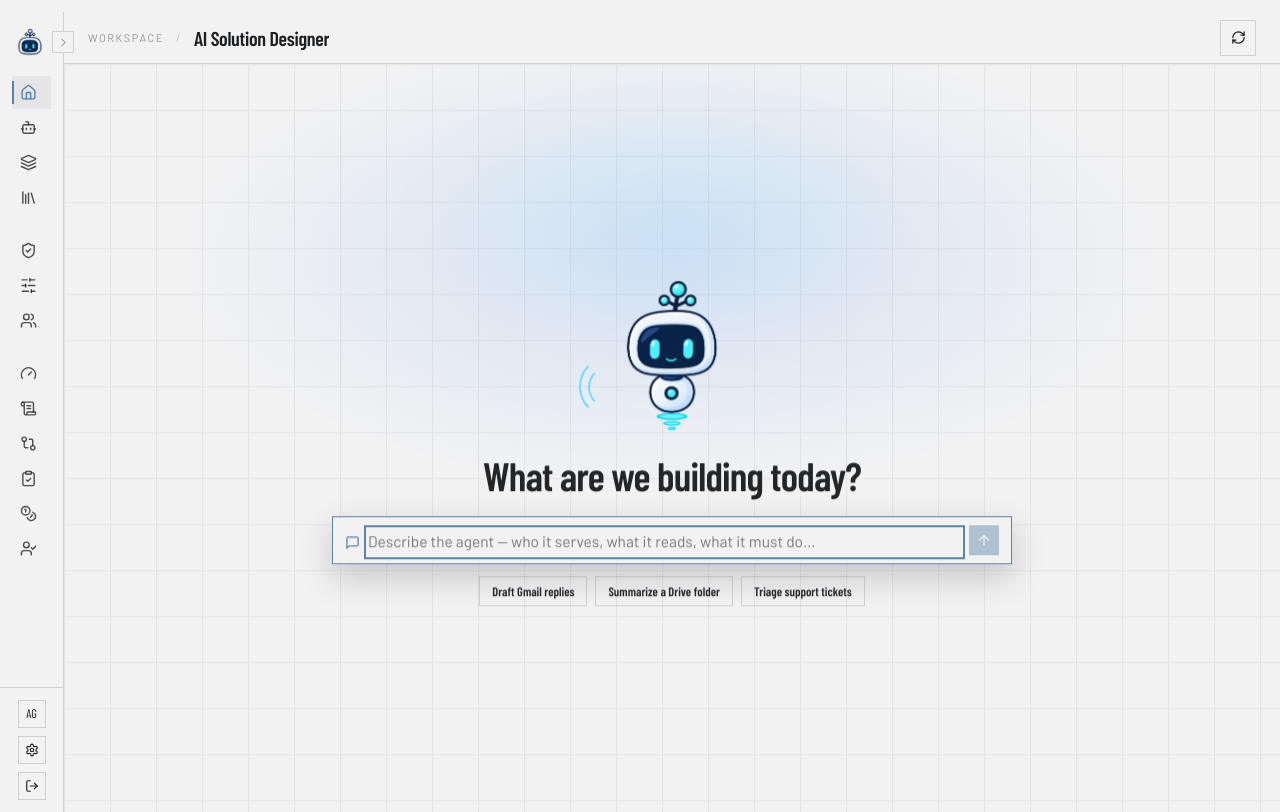
the Data sources tab › puts the page inside the shell, not one viewport below the fold
Click the button named "Data sources": (32, 198) [12,181,51,214]
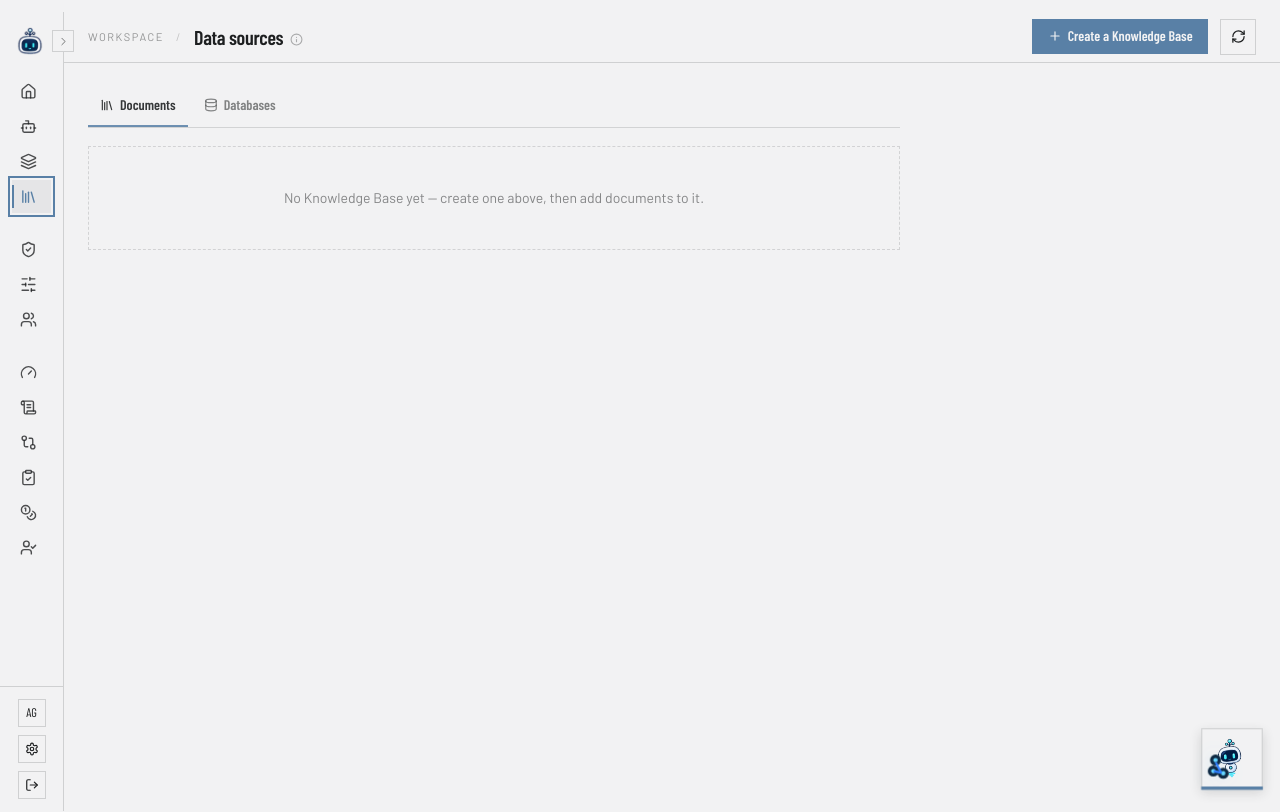
Now the element with class "ab-page" is shown, box [88,84,900,250]
